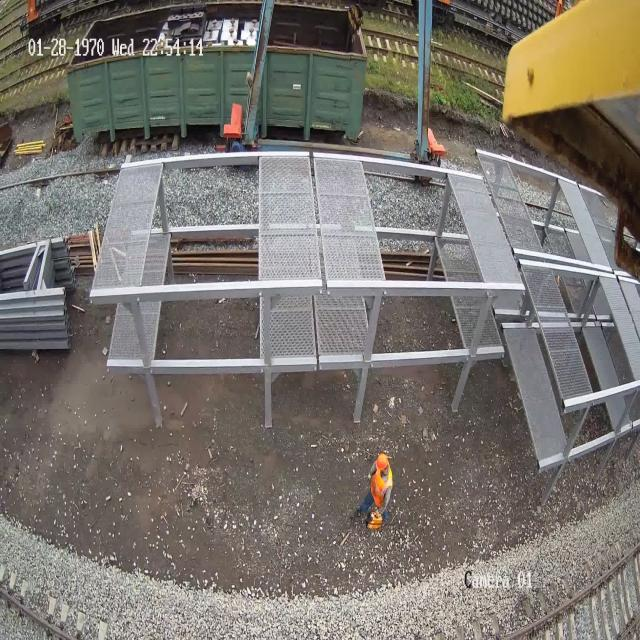Helmet: (376, 452, 388, 472)
Person: (356, 452, 393, 527)
